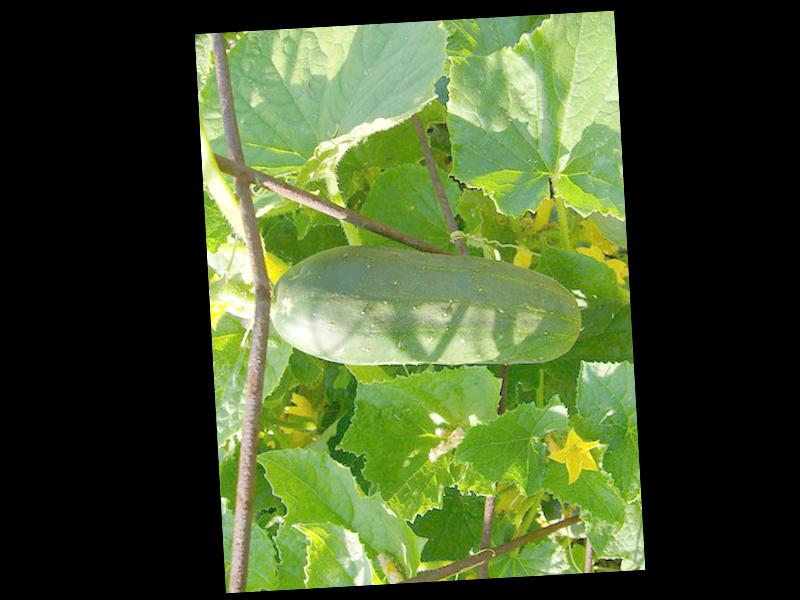Cucumber: (267, 230, 584, 378)
